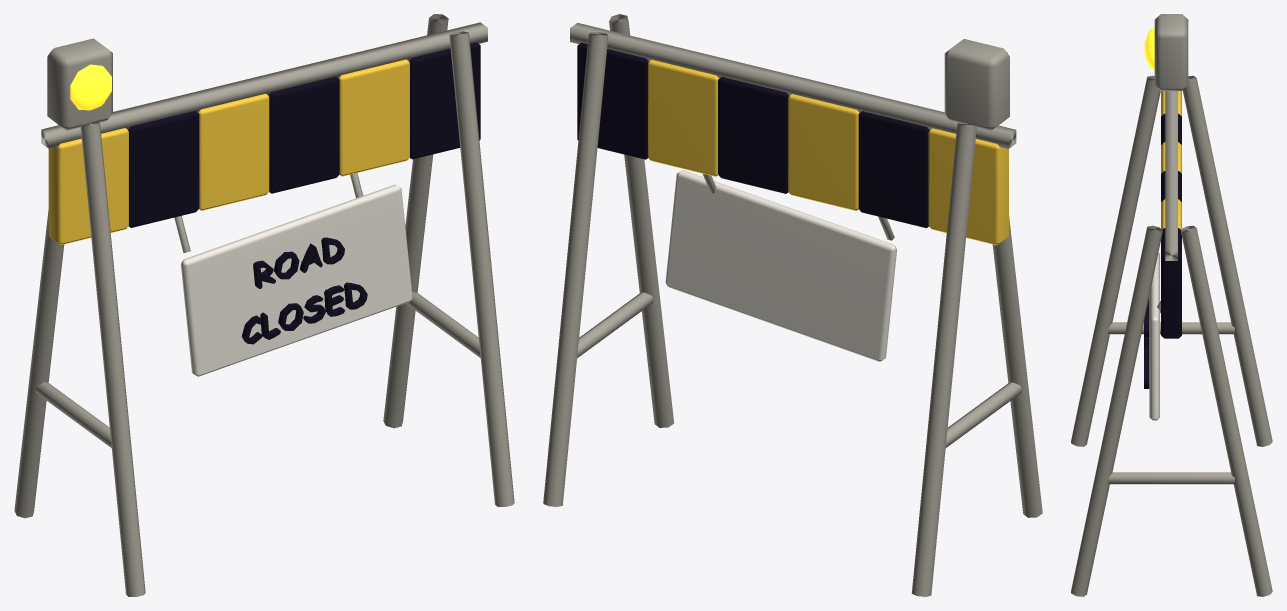
Rendered from barrier.glb.
The picture shows the model from 3 angles, left to right: view 1: azimuth 30°, elevation 25°; view 2: azimuth 150°, elevation 25°; view 3: azimuth 270°, elevation 25°; orthographic projection. The views are drawn at different scales.
Visible parts, largest first — view 1: Barrier.001; view 2: Barrier.001; view 3: Barrier.001.
Boxes of the visible parts, x1,y1,x2,y2 form: Barrier.001: [14, 14, 514, 596]; Barrier.001: [543, 14, 1042, 596]; Barrier.001: [1071, 14, 1272, 596].
Bounding box in the file's own units: 1 × 1.1 × 0.4774.
